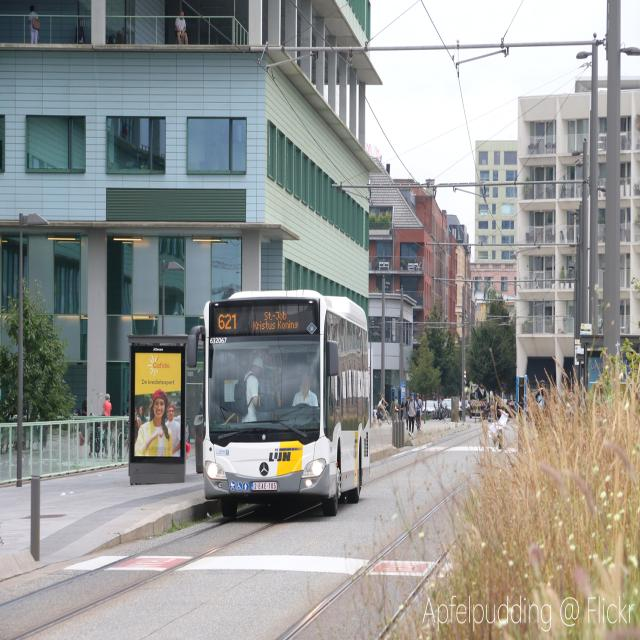bus-number: (218, 313, 236, 330)
